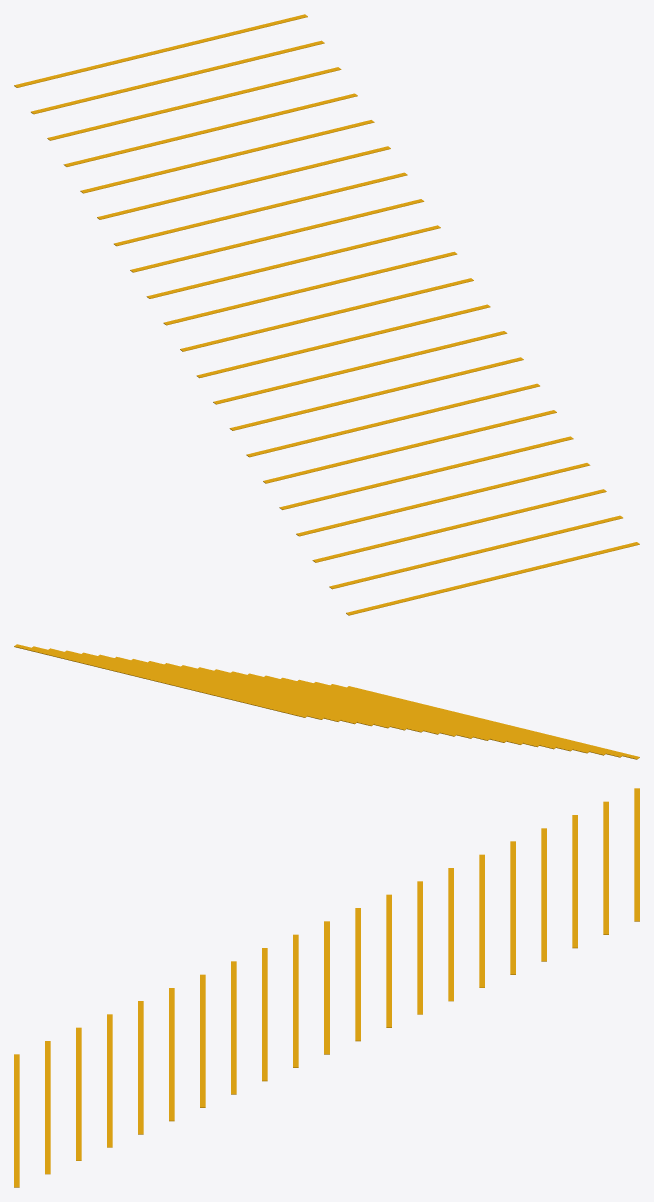
The model's file is gteki_ik_stair_n21_r142_t300_w3055_nosing.glb.
3 renders of one model, top to bottom at view 1: azimuth 30°, elevation 25°; view 2: azimuth 150°, elevation 25°; view 3: azimuth 270°, elevation 25°, orthographic. The views are drawn at different scales.
Visible parts, largest first — view 1: VIS_body; view 2: VIS_body; view 3: VIS_body.
Boxes of the visible parts, x1,y1,x2,y2 form: VIS_body: (14, 14, 639, 615); VIS_body: (14, 644, 639, 759); VIS_body: (14, 788, 639, 1187).
Bounding box in the file's own units: 3.04 × 2.85 × 6.06.
1 material, 1 textured.
